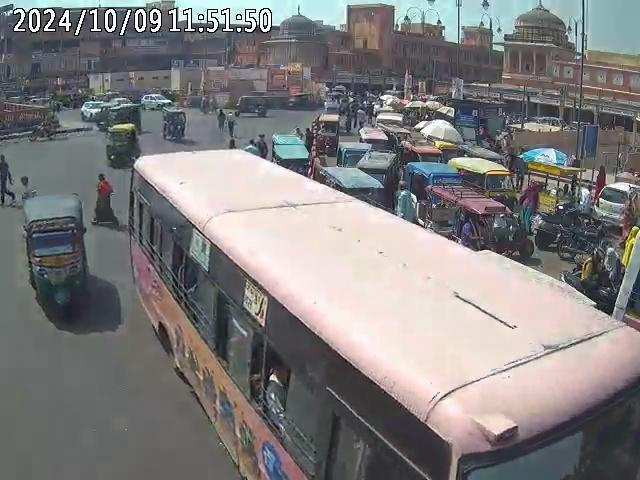auto: (20, 192, 90, 323), (426, 183, 526, 262), (320, 164, 384, 212), (592, 180, 639, 234), (267, 133, 310, 177), (102, 122, 140, 166), (311, 113, 341, 155), (161, 107, 188, 142), (236, 93, 267, 117)
bus: (128, 146, 640, 480)
car: (593, 175, 640, 231), (140, 94, 172, 109)
motorbike-rider: (28, 120, 57, 142)
person: (392, 182, 417, 223)
scooty: (535, 198, 586, 250)
scooty-rider: (562, 244, 615, 306)
